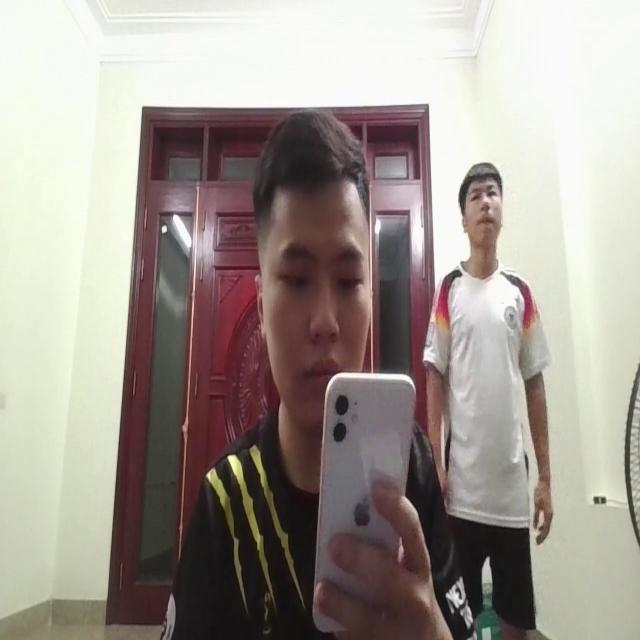extra_person: (423, 148, 562, 640)
phone: (316, 371, 415, 637)
student: (181, 101, 440, 640)
